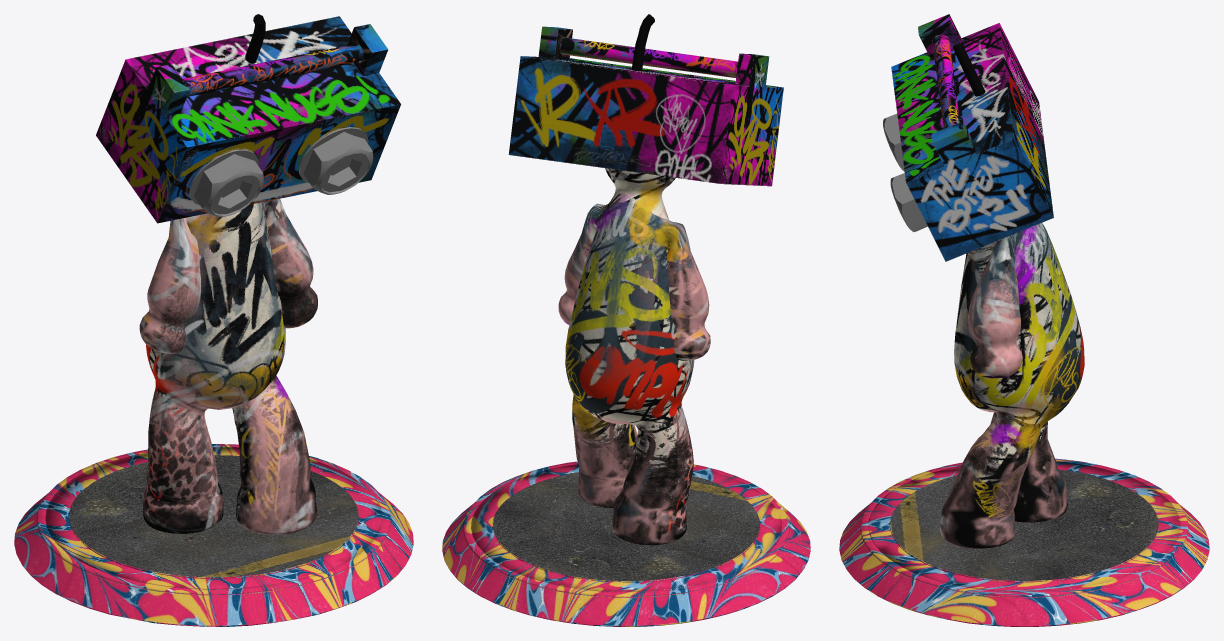
3 renders of one model, left to right at view 1: azimuth 30°, elevation 25°; view 2: azimuth 150°, elevation 25°; view 3: azimuth 270°, elevation 25°, orthographic. The views are drawn at different scales.
Visible parts, largest first — view 1: BBody; view 2: BBody; view 3: BBody.
Part boxes in pixels (x1,y1,x2,y2): BBody: (14, 14, 413, 626); BBody: (442, 14, 810, 626); BBody: (839, 14, 1209, 626).
Size of the model in its own units: 1.45 by 2.2 by 1.45.
6 materials, 4 textured.
